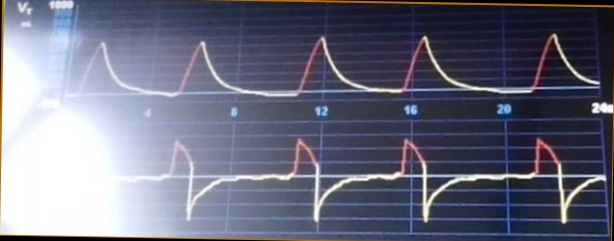Normal Flow: (102, 134, 606, 226)
Normal Volume: (72, 27, 598, 99)
